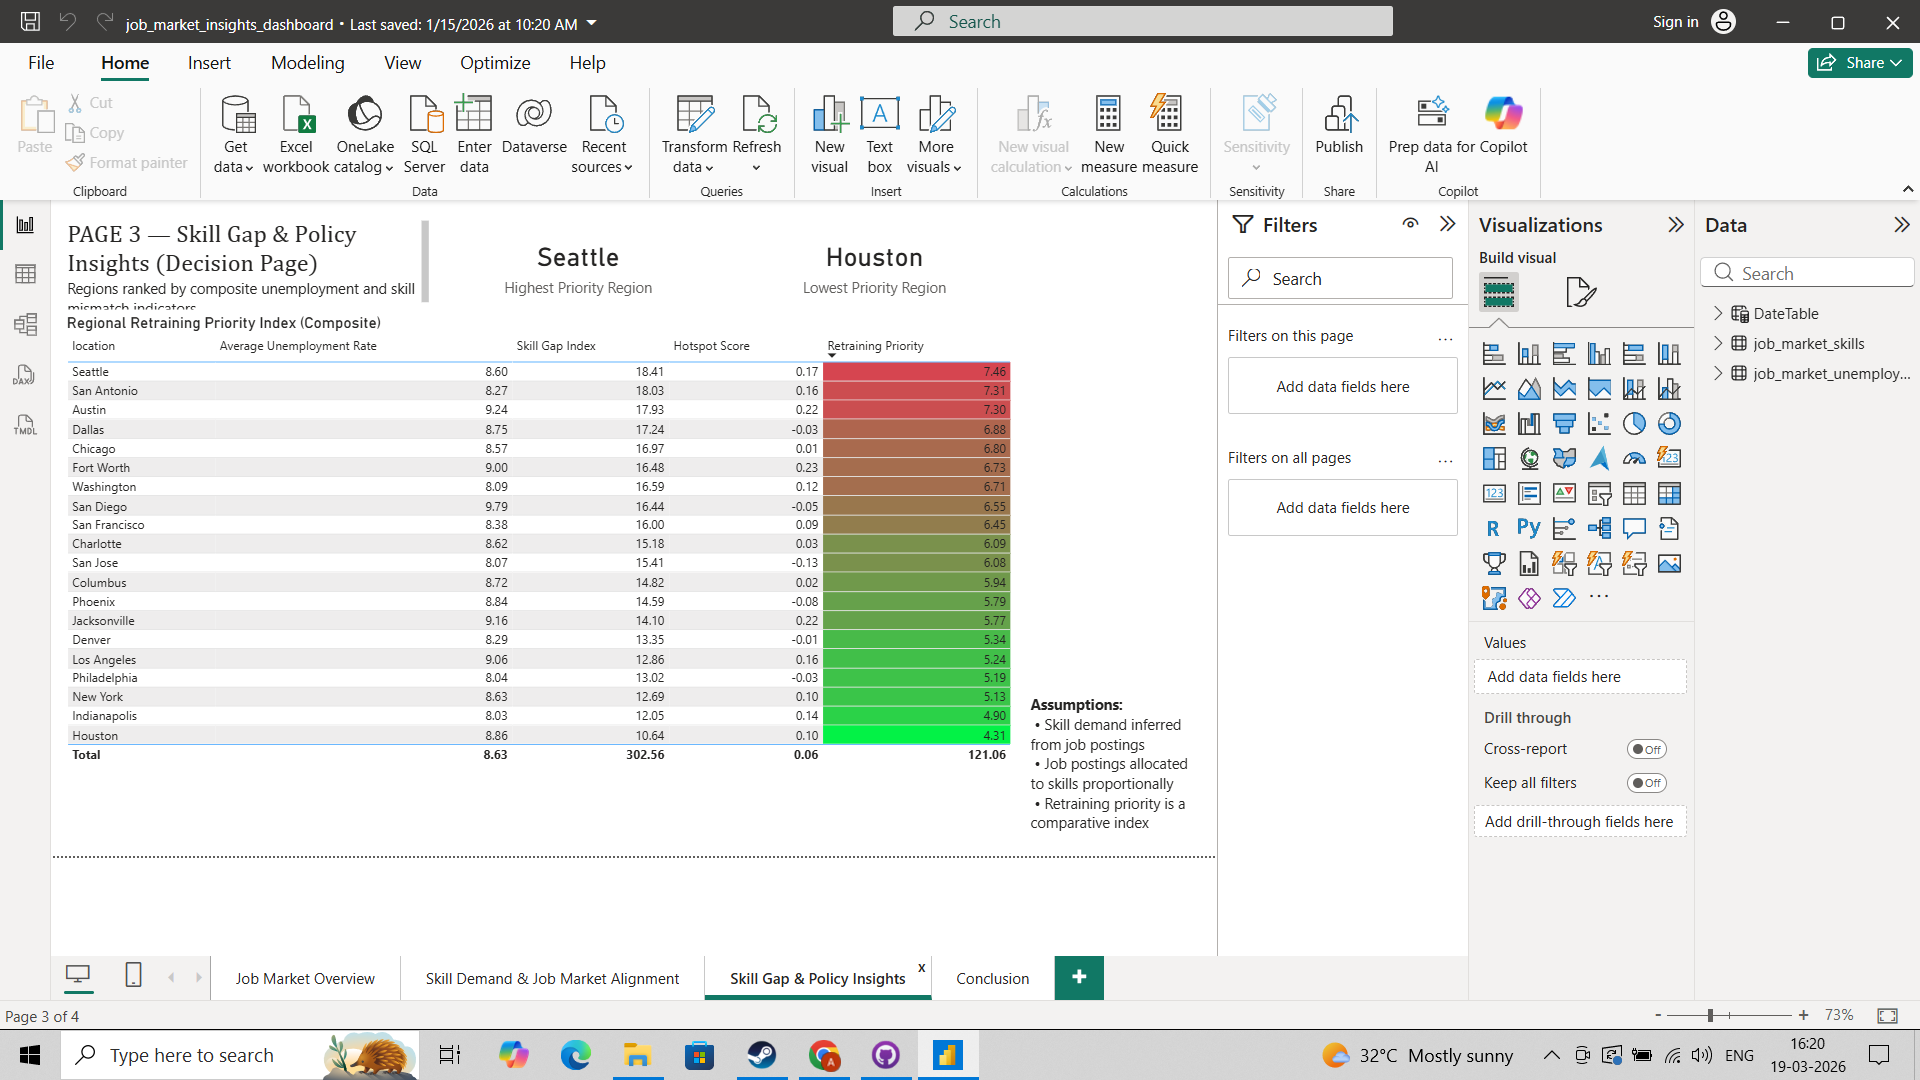

The dashboard page shown, as its layout file describes it:
{"tool":"powerbi","page":{"name":"Skill Gap & Policy Insights","canvas":[1280,720],"ordinal":2},"visuals":[{"type":"tableEx","title":"Regional Retraining Priority Index (Composite)","fields":{"Values":["job_market_unemployment_trends.location","job_market_unemployment_trends.Average Unemployment Rate","job_market_unemployment_trends.Skill Gap Index","job_market_unemployment_trends.Hotspot Score","job_market_unemployment_trends.Retraining Priority"]},"box":[12.3,124.9,1058,583.2],"z":0},{"type":"card","fields":{"Values":["job_market_unemployment_trends.Lowest Priority Region"]},"box":[738.3,17.8,332.1,107],"z":1000},{"type":"textbox","box":[1070.3,537.9,197.6,170.2],"z":2000},{"type":"textbox","box":[12.3,17.8,407.5,107],"z":3000},{"type":"card","fields":{"Values":["job_market_unemployment_trends.Highest Priority Region"]},"box":[419.9,17.8,318.4,107],"z":4000}]}

Visuals, with their boxes on the page's 1280x720 design canvas (x1, y1, x2, y2). These are canvas units, not pixel positions in the 1920x1080 screenshot, which may show the page scaled, cropped or inside an application window:
"Regional Retraining Priority Index (Composite)" tableEx: detection(12, 125, 1070, 708)
card - job_market_unemployment_trends.Lowest Priority Region: detection(738, 18, 1070, 125)
textbox: detection(1070, 538, 1268, 708)
textbox: detection(12, 18, 420, 125)
card - job_market_unemployment_trends.Highest Priority Region: detection(420, 18, 738, 125)
